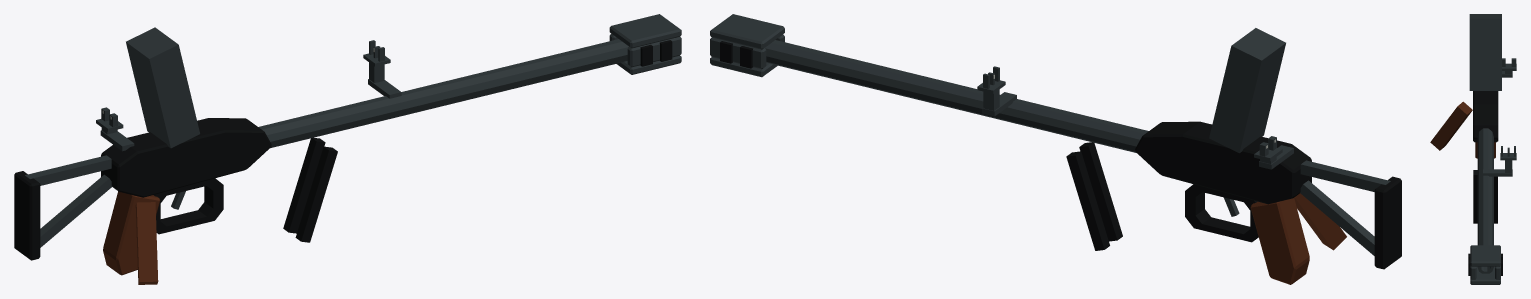
File: CE_Gun_BoysRifle.obj
The picture shows the model from 3 angles, left to right: view 1: azimuth 30°, elevation 25°; view 2: azimuth 150°, elevation 25°; view 3: azimuth 270°, elevation 25°; orthographic projection. The views are drawn at different scales.
Parts seen in each view (by area): view 1: Hollow_barrel, Model-specific_stepped_action, Top_feed_magazine, Boys_curved_rear_grip, Folding_butt_pad, Small_action_trigger_bow, Boys_offset_side_grip, Muzzle_brake_rim.001, Folded_bipod_close_to_fore-end.001, Folded_bipod_close_to_fore-end, Folding_stock_lower, Folding_stock_upper (+2 smaller); view 2: Hollow_barrel, Model-specific_stepped_action, Top_feed_magazine, Boys_curved_rear_grip, Folding_butt_pad, Small_action_trigger_bow, Muzzle_brake_rim.001, Folded_bipod_close_to_fore-end, Folded_bipod_close_to_fore-end.001, Folding_stock_lower, Folding_stock_upper, Boys_offset_side_grip (+2 smaller); view 3: Top_feed_magazine, Hollow_barrel, Model-specific_stepped_action, Boys_offset_side_grip, Muzzle_brake_rim.001, Muzzle_brake_rim, Folded_bipod_close_to_fore-end.001, R3_Front_OffsetBracket, Folded_bipod_close_to_fore-end, R3_Front_Foot, R3_Front_SeatedStem, Muzzle_brake_side.001 (+3 smaller).
Boxes of the visible parts, <box> form: Hollow_barrel: <box>258,39,628,148</box>; Model-specific_stepped_action: <box>101,118,271,197</box>; Top_feed_magazine: <box>126,27,199,148</box>; Boys_curved_rear_grip: <box>103,191,160,275</box>; Folding_butt_pad: <box>14,171,40,260</box>; Small_action_trigger_bow: <box>153,178,223,234</box>; Boys_offset_side_grip: <box>135,202,158,284</box>; Muzzle_brake_rim.001: <box>609,14,681,48</box>; Folded_bipod_close_to_fore-end.001: <box>295,146,337,242</box>; Folded_bipod_close_to_fore-end: <box>283,137,325,233</box>; Folding_stock_lower: <box>40,174,112,247</box>; Folding_stock_upper: <box>25,155,111,185</box>; Hollow_barrel: <box>765,40,1148,152</box>; Model-specific_stepped_action: <box>1135,121,1311,204</box>; Top_feed_magazine: <box>1209,28,1285,153</box>; Boys_curved_rear_grip: <box>1250,198,1309,284</box>; Folding_butt_pad: <box>1374,176,1401,269</box>; Small_action_trigger_bow: <box>1185,184,1258,242</box>; Muzzle_brake_rim.001: <box>710,14,784,49</box>; Folded_bipod_close_to_fore-end: <box>1066,151,1109,250</box>; Folded_bipod_close_to_fore-end.001: <box>1079,142,1122,241</box>; Folding_stock_lower: <box>1300,180,1374,255</box>; Folding_stock_upper: <box>1300,160,1390,191</box>; Boys_offset_side_grip: <box>1294,193,1346,250</box>; Top_feed_magazine: <box>1469,14,1501,90</box>; Hollow_barrel: <box>1477,128,1493,273</box>; Model-specific_stepped_action: <box>1473,91,1498,142</box>; Boys_offset_side_grip: <box>1430,101,1472,150</box>; Muzzle_brake_rim.001: <box>1470,245,1500,266</box>; Muzzle_brake_rim: <box>1470,266,1500,284</box>; Folded_bipod_close_to_fore-end.001: <box>1473,170,1477,223</box>; R3_Front_OffsetBracket: <box>1483,169,1512,176</box>; Folded_bipod_close_to_fore-end: <box>1494,176,1497,223</box>; R3_Front_Foot: <box>1500,153,1516,160</box>; R3_Front_SeatedStem: <box>1505,160,1512,172</box>; Muzzle_brake_side.001: <box>1470,266,1476,279</box>.
Bounding box in the file's own units: 1.51 × 0.5167 × 0.2537.
